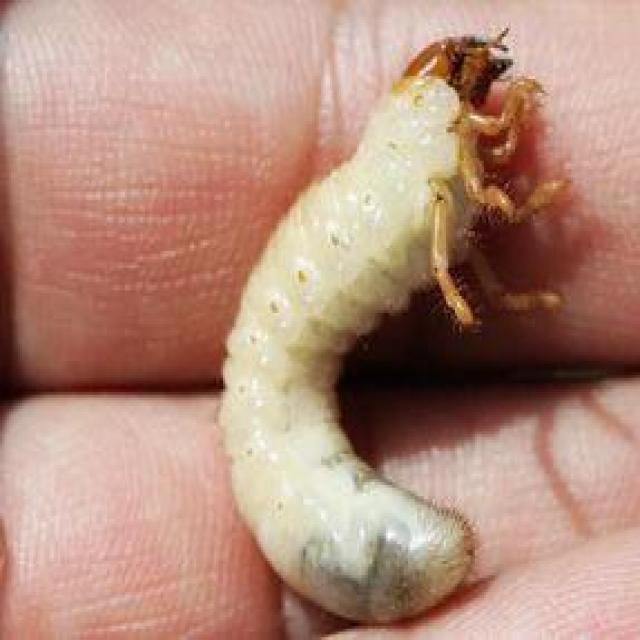Grub-Adult-: (208, 25, 561, 618)
